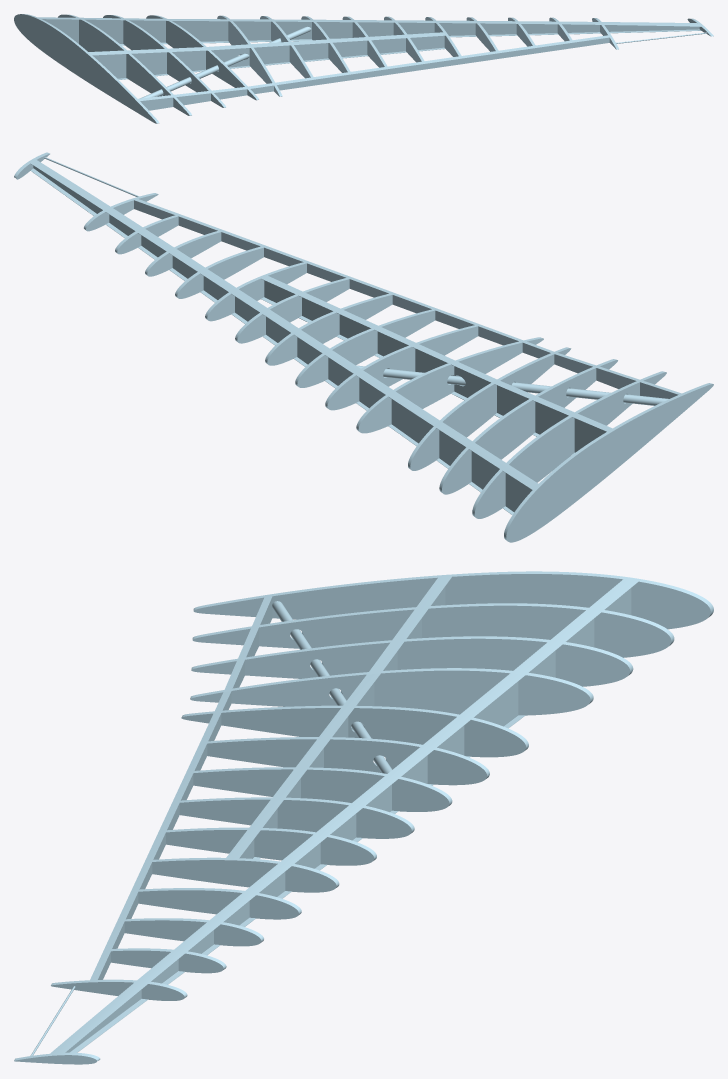
The model's file is ribs.gltf.
The picture shows the model from 3 angles, top to bottom: view 1: azimuth 30°, elevation 25°; view 2: azimuth 150°, elevation 25°; view 3: azimuth 270°, elevation 25°; orthographic projection. The views are drawn at different scales.
Visible parts, largest first — view 1: Wing Structure; view 2: Wing Structure; view 3: Wing Structure.
Part boxes in pixels (left/top/right/bottom): Wing Structure: left=14, top=14, right=713, bottom=123; Wing Structure: left=14, top=152, right=713, bottom=542; Wing Structure: left=14, top=571, right=713, bottom=1064.
Size of the model in its own units: 10 by 0.6081 by 6.55.
